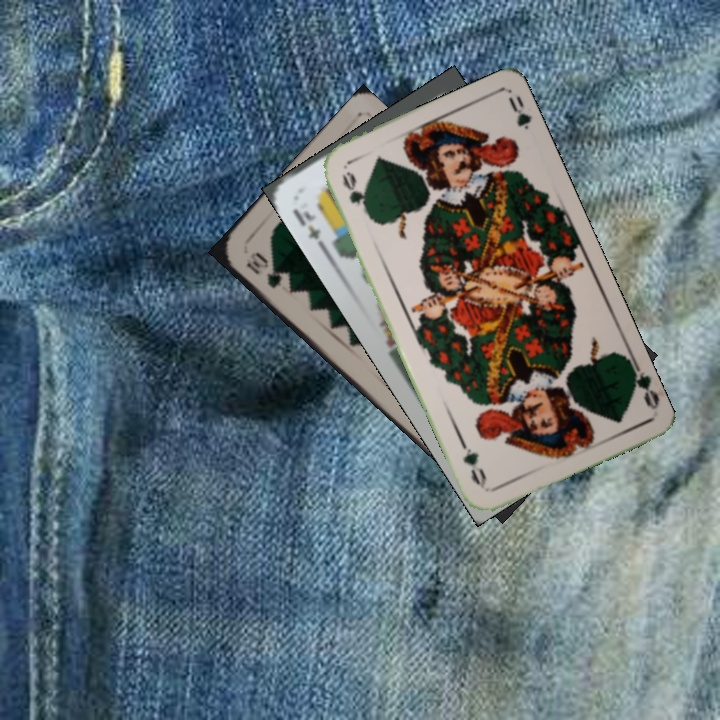EK: (288, 204, 327, 251)
G10: (242, 248, 285, 291)
GO: (625, 355, 662, 412), (337, 167, 373, 221)
